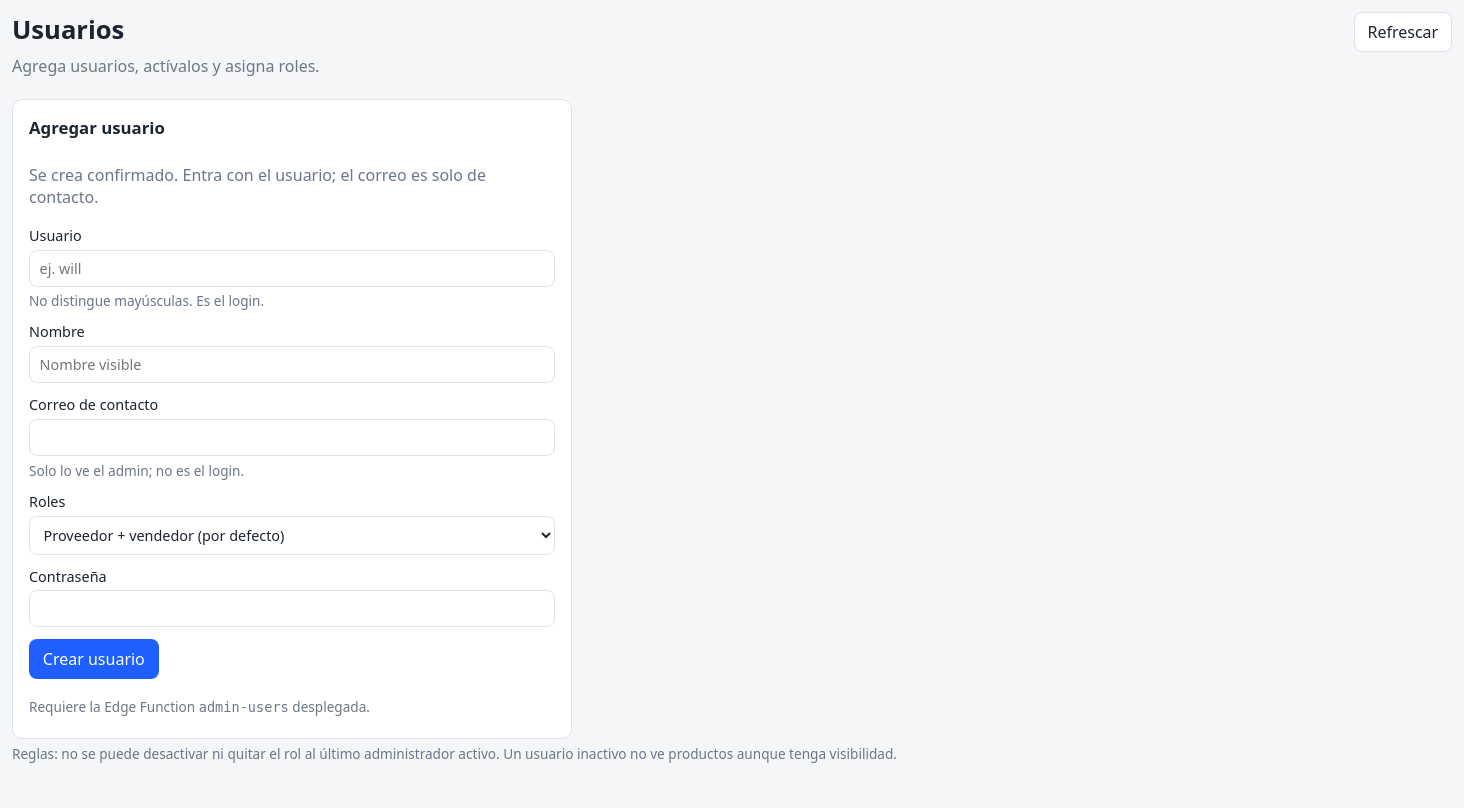
Test: AdminUsuarios.crearUsuario › muestra el error si la Edge Function falla
Expected: the heading "Agregar usuario" is shown, [29,116,165,139]
Step 1. Type "will3" into the field labelled "Usuario No distingue mayúsculas. Es el login." → (292, 268), box [29,250,555,287]
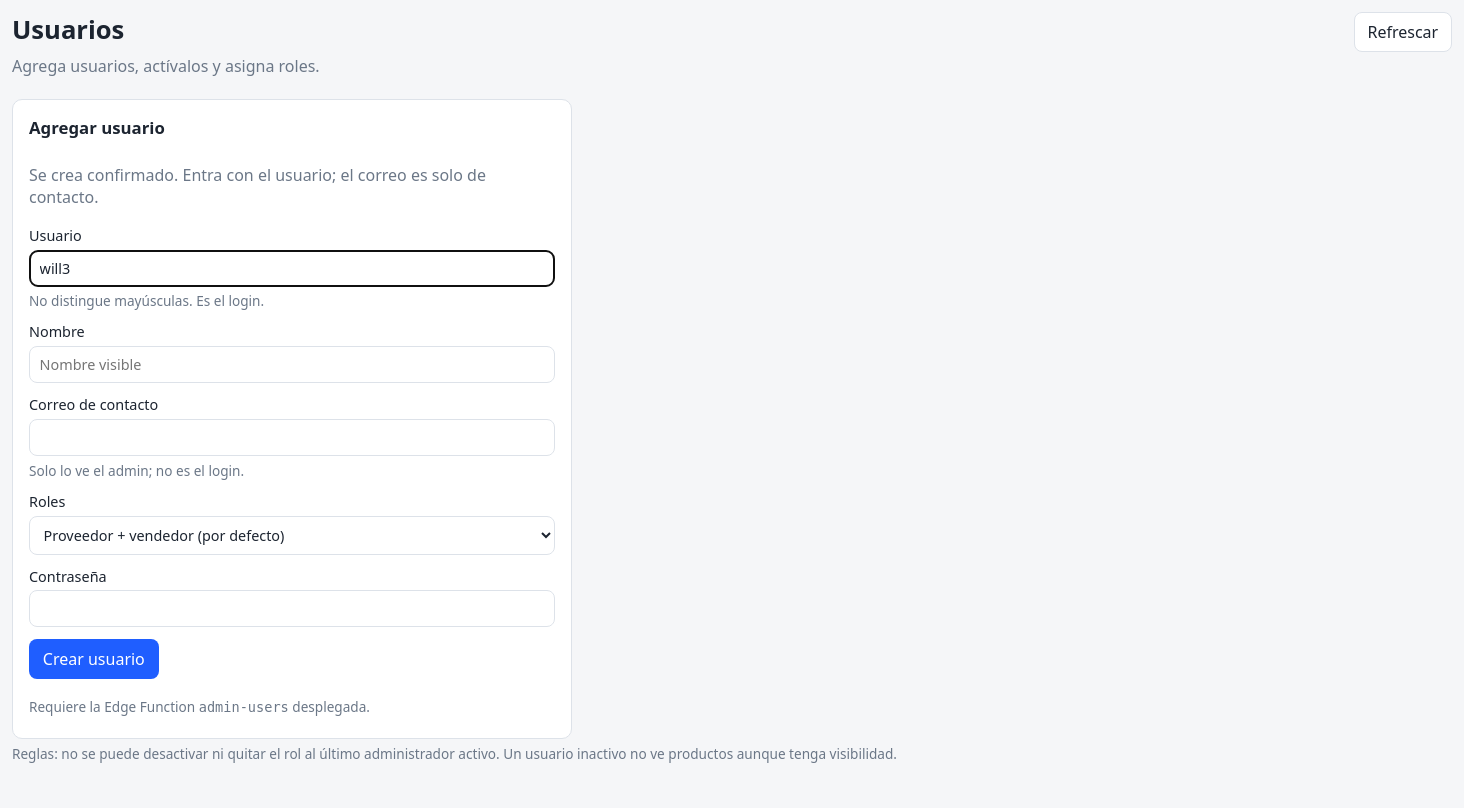
Step 2. Type "Will Tres" into the field labelled "Nombre" → (292, 365), box [29,346,555,383]
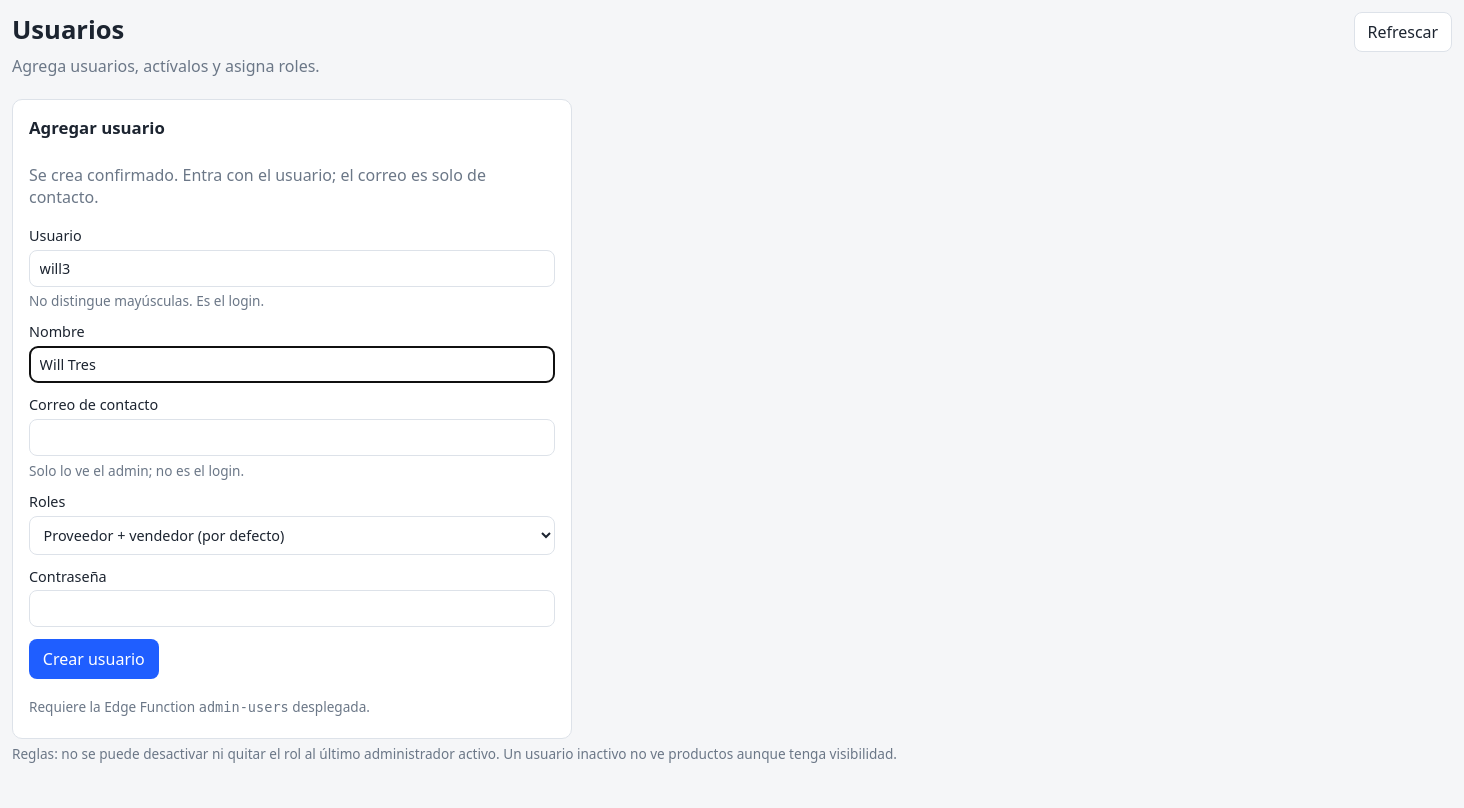
Step 3. Type "will3@example.com" into the field labelled "Correo de contacto Solo lo ve el admin; no es el login." → (292, 438), box [29,419,555,456]
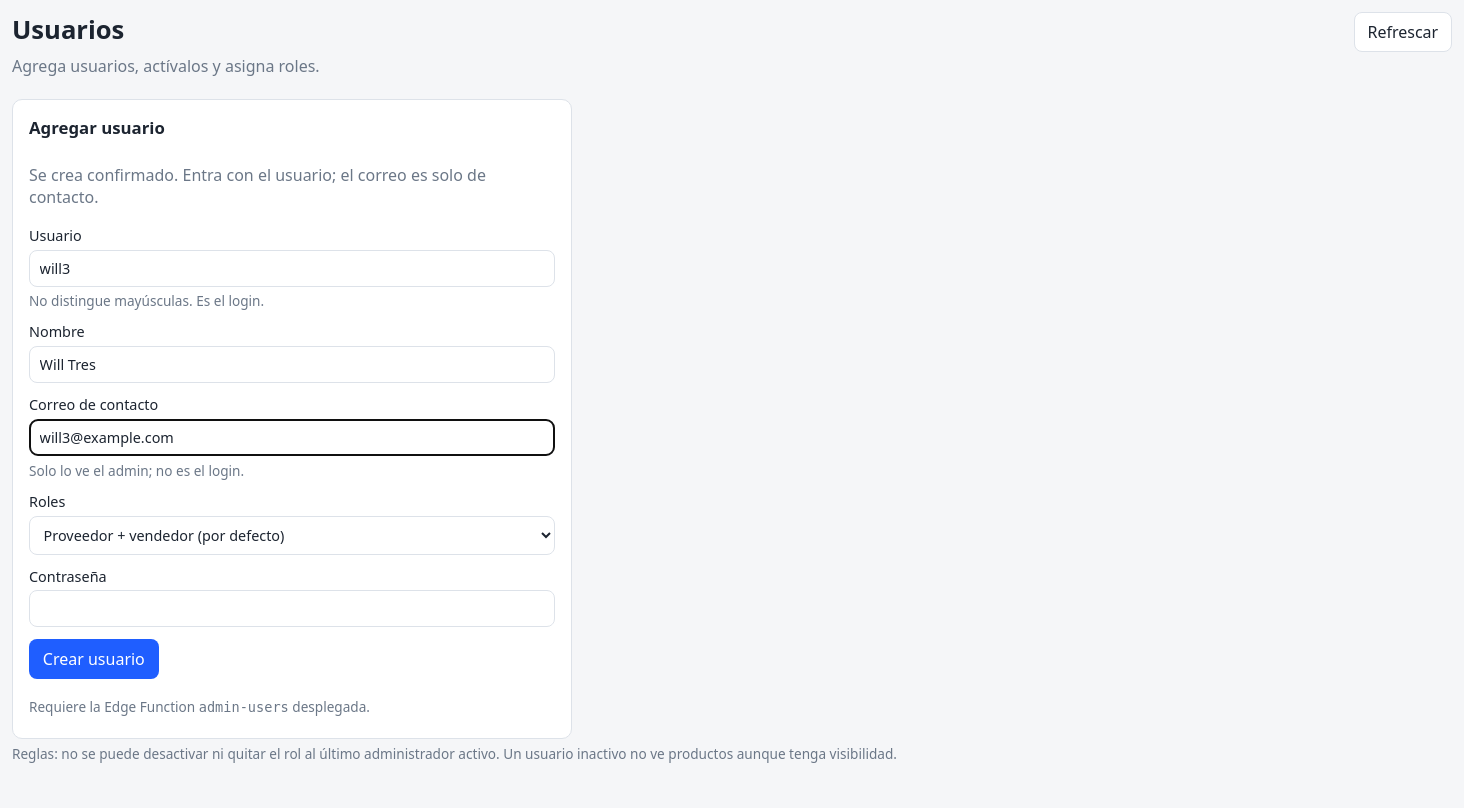
Step 4. Type "Secreta123" into the password field labelled "Contraseña" → (292, 609), box [29,590,555,627]
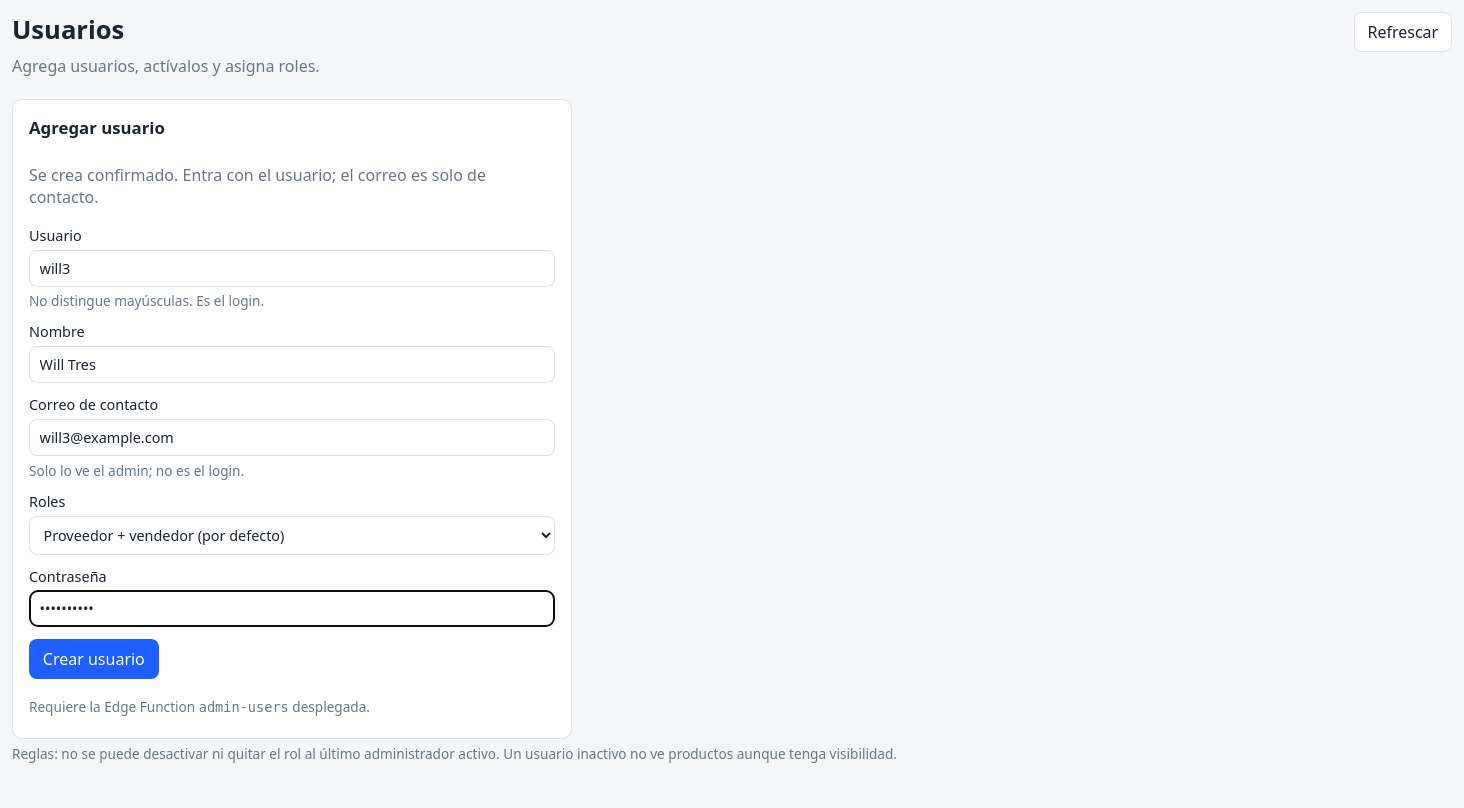
Step 5. Click the button "Crear usuario" → (94, 659), box [29,639,159,679]
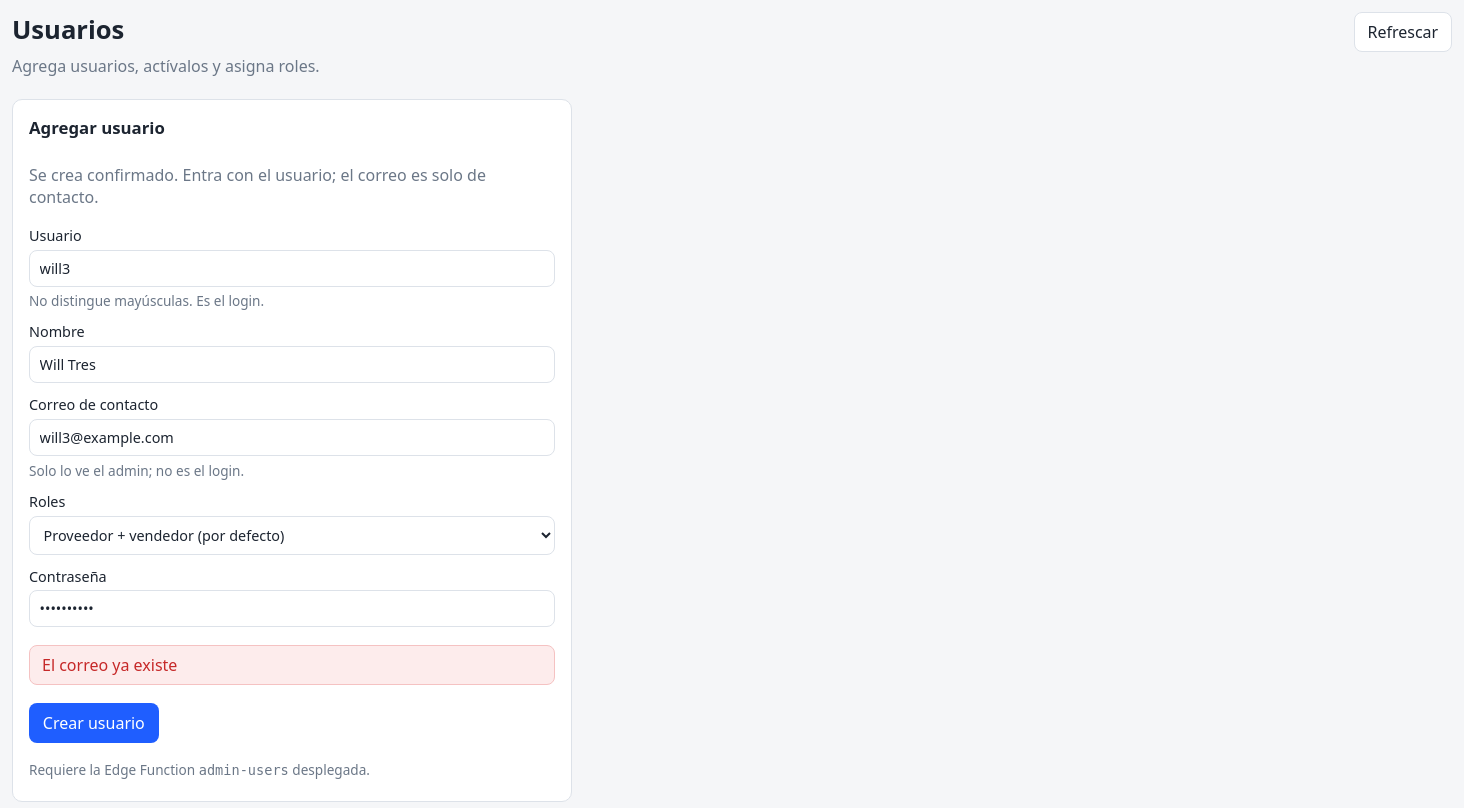
Result: the text "El correo ya existe" is shown at [29,645,555,685]
